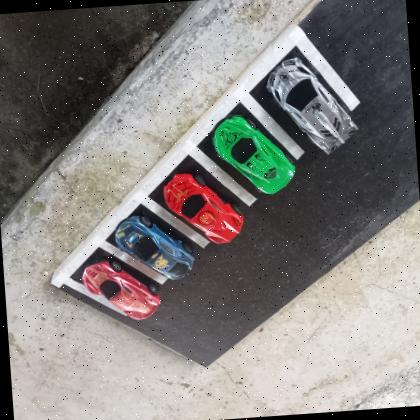Car: (265, 52, 362, 160), (209, 110, 298, 199), (162, 169, 246, 247), (112, 211, 197, 284), (81, 255, 163, 324)
